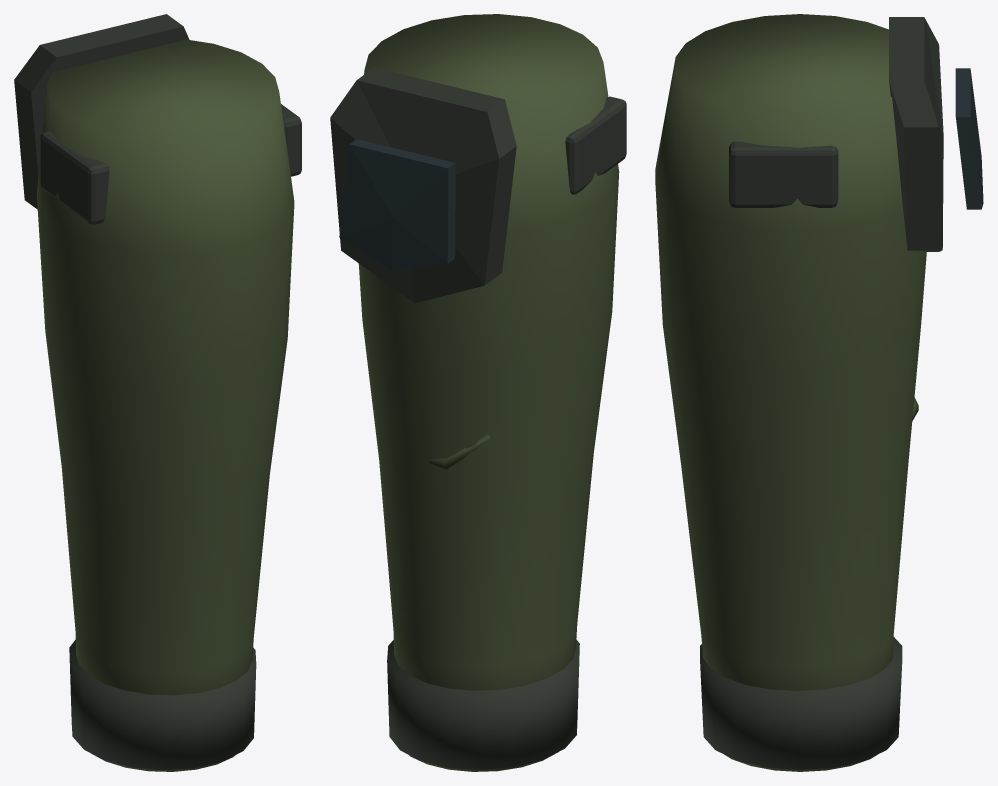
File: CharLegLow.glb
The picture shows the model from 3 angles, left to right: view 1: azimuth 30°, elevation 25°; view 2: azimuth 150°, elevation 25°; view 3: azimuth 270°, elevation 25°; orthographic projection. The views are drawn at different scales.
Visible parts, largest first — view 1: CharLegLow; view 2: CharLegLow; view 3: CharLegLow.
Boxes of the visible parts, x1,y1,x2,y2 form: CharLegLow: [14, 14, 301, 771]; CharLegLow: [330, 14, 626, 771]; CharLegLow: [655, 14, 983, 771].
Bounding box in the file's own units: 0.142 × 0.409 × 0.1772.
